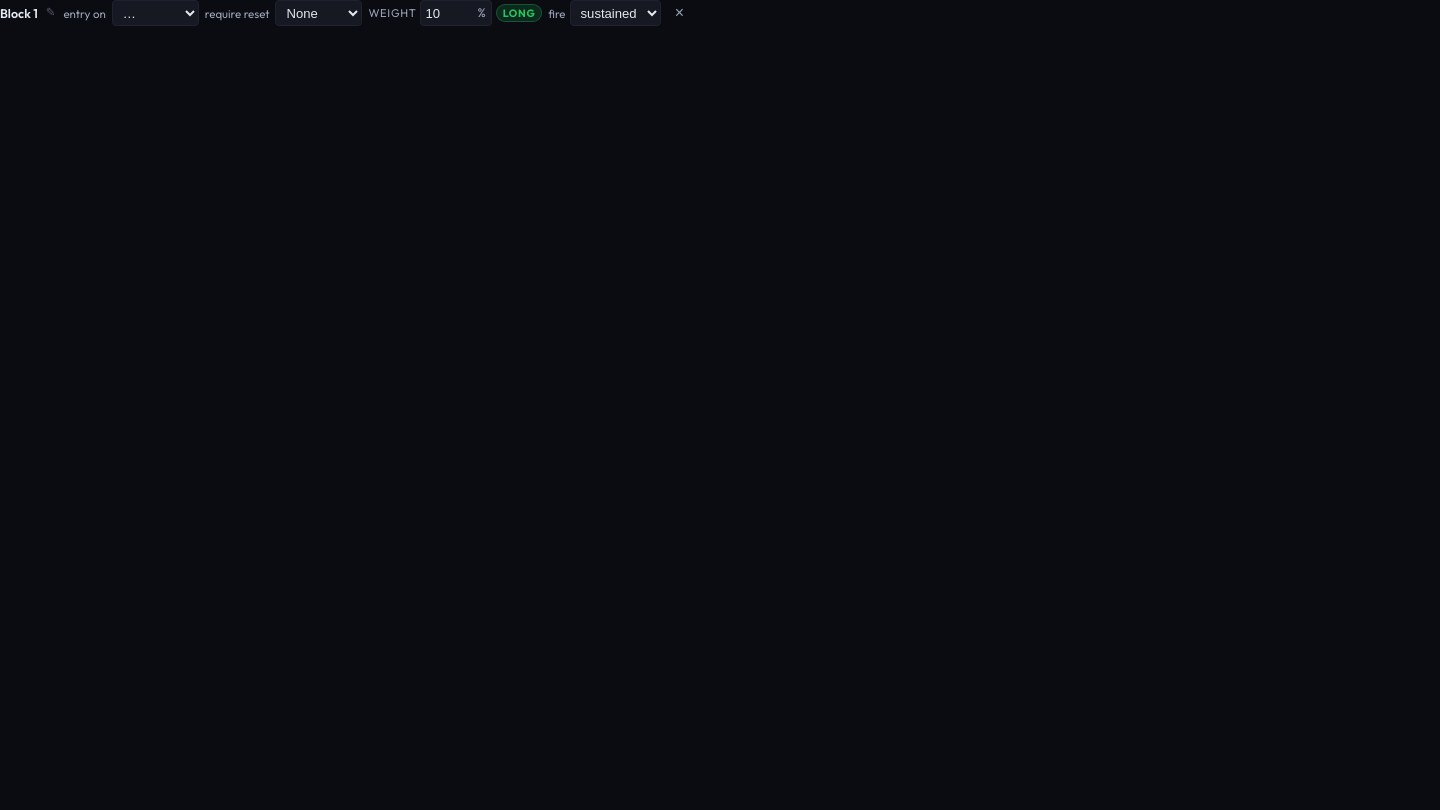
Test: BlockHeader — delete button › opens the confirm dialog on delete button click
Click the button with test id "remove-block-0". click: (680, 13)
box: [666,0,692,26]
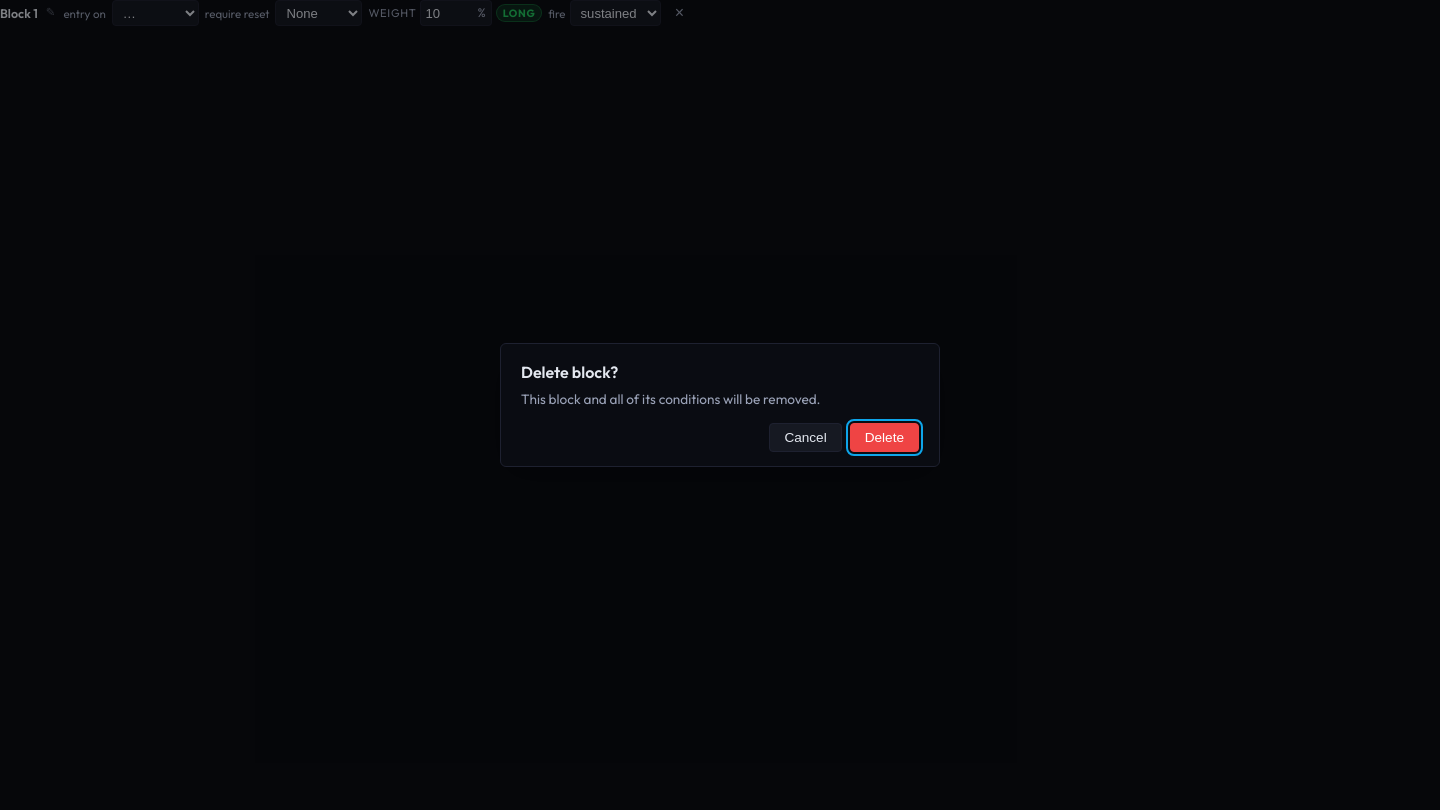
Now the dialog with test id "confirm-dialog" is shown, box [500,343,940,467]
